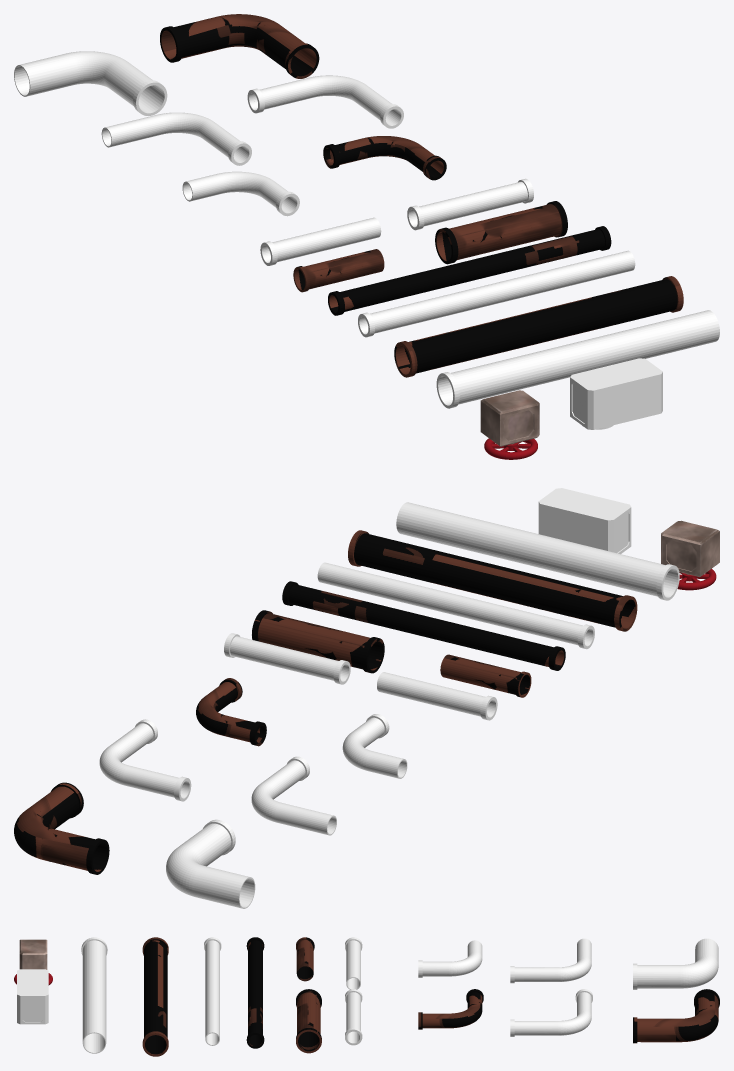
File: Final_ ALL Pipes copy.glb
3 renders of one model, top to bottom at view 1: azimuth 30°, elevation 25°; view 2: azimuth 150°, elevation 25°; view 3: azimuth 270°, elevation 25°, orthographic. The views are drawn at different scales.
Parts seen in each view (by area): view 1: Pipe 500mm WE, Pipe 500mm NE, Pipe thin 500mm WE, Pipe thin 500mm NE, Pipe turn WE, Cooling element pipes, Pipe turn NE, Pipe 200mm WE, Wheel pipe, Pipe thin turn WE, Pipe thin turn NE, Pipe thin short turn WE (+4 smaller); view 2: Pipe 500mm WE, Pipe 500mm NE, Pipe thin 500mm WE, Pipe thin 500mm NE, Pipe turn WE, Cooling element pipes, Pipe turn NE, Pipe 200mm WE, Wheel pipe, Pipe thin turn WE, Pipe thin turn NE, Pipe thin 200mm WE (+4 smaller); view 3: Pipe 500mm WE, Pipe 500mm NE, Pipe turn WE, Pipe turn NE, Cooling element pipes, Pipe thin 500mm WE, Pipe thin turn WE, Pipe thin 500mm NE, Pipe thin turn NE, Pipe 200mm WE, Pipe thin short turn WE, Pipe thin short turn NE (+4 smaller).
Boxes of the visible parts, x1=… form: Pipe 500mm WE: x1=394, y1=276, x2=683, y2=377; Pipe 500mm NE: x1=436, y1=310, x2=719, y2=408; Pipe thin 500mm WE: x1=328, y1=226, x2=611, y2=315; Pipe thin 500mm NE: x1=358, y1=250, x2=635, y2=337; Pipe turn WE: x1=160, y1=14, x2=319, y2=78; Cooling element pipes: x1=570, y1=358, x2=662, y2=429; Pipe turn NE: x1=14, y1=51, x2=167, y2=115; Pipe 200mm WE: x1=435, y1=201, x2=567, y2=264; Wheel pipe: x1=480, y1=390, x2=539, y2=459; Pipe thin turn WE: x1=247, y1=75, x2=403, y2=128; Pipe thin turn NE: x1=101, y1=112, x2=251, y2=165; Pipe thin short turn WE: x1=323, y1=136, x2=446, y2=180; Pipe 500mm WE: x1=348, y1=530, x2=637, y2=631; Pipe 500mm NE: x1=396, y1=502, x2=679, y2=600; Pipe thin 500mm WE: x1=282, y1=581, x2=565, y2=670; Pipe thin 500mm NE: x1=317, y1=562, x2=594, y2=649; Pipe turn WE: x1=14, y1=782, x2=109, y2=874; Cooling element pipes: x1=538, y1=488, x2=631, y2=553; Pipe turn NE: x1=166, y1=819, x2=255, y2=908; Pipe 200mm WE: x1=252, y1=610, x2=384, y2=673; Wheel pipe: x1=661, y1=520, x2=719, y2=590; Pipe thin turn WE: x1=99, y1=719, x2=191, y2=801; Pipe thin turn NE: x1=251, y1=756, x2=336, y2=835; Pipe thin 200mm WE: x1=224, y1=633, x2=350, y2=684; Pipe 500mm WE: x1=142, y1=937, x2=168, y2=1056; Pipe 500mm NE: x1=81, y1=937, x2=107, y2=1053; Pipe turn WE: x1=633, y1=989, x2=719, y2=1043; Pipe turn NE: x1=633, y1=938, x2=718, y2=989; Cooling element pipes: x1=17, y1=969, x2=48, y2=1024; Pipe thin 500mm WE: x1=246, y1=937, x2=264, y2=1048; Pipe thin turn WE: x1=510, y1=989, x2=592, y2=1036; Pipe thin 500mm NE: x1=204, y1=937, x2=221, y2=1045; Pipe thin turn NE: x1=510, y1=938, x2=591, y2=983; Pipe 200mm WE: x1=296, y1=989, x2=321, y2=1053; Pipe thin short turn WE: x1=418, y1=989, x2=483, y2=1029; Pipe thin short turn NE: x1=418, y1=940, x2=482, y2=977.
Size of the model in its own units: 37.04 by 6.51 by 115.
Materials: 5 (2 with a texture image).
